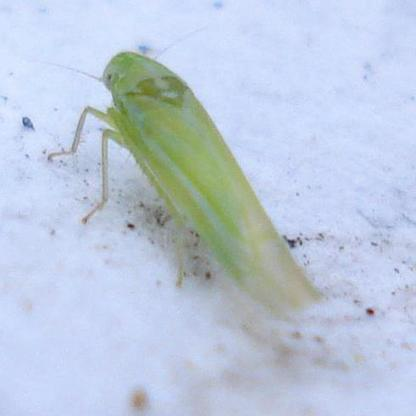green-leafhopper: (104, 50, 324, 310)
